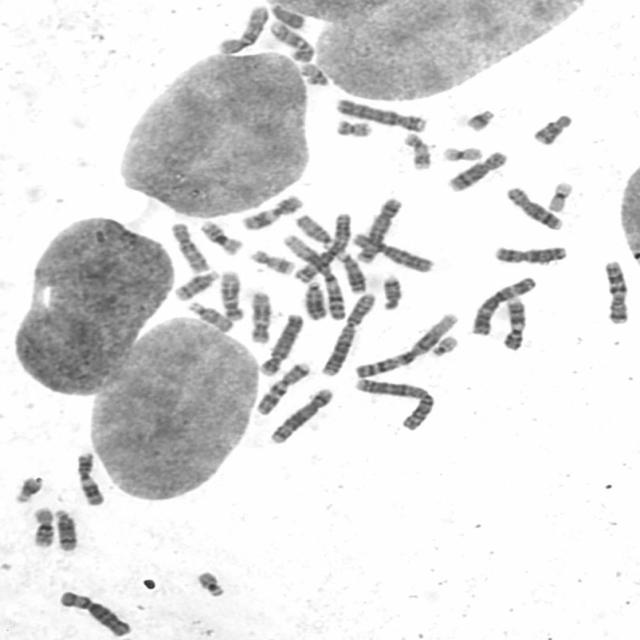A1: (351, 308, 464, 380), (279, 230, 350, 321)
A2: (318, 288, 379, 378), (350, 373, 439, 432)
A3: (290, 208, 355, 283), (468, 272, 539, 336)
B4: (332, 93, 431, 133), (256, 308, 308, 377)
B5: (266, 383, 337, 445), (352, 192, 406, 264)
C10: (215, 1, 272, 55), (166, 217, 214, 274)
C11: (237, 190, 307, 231), (73, 447, 109, 507)
C12: (217, 266, 248, 322), (245, 287, 275, 344)
C6: (55, 586, 135, 638), (348, 228, 438, 274)
C7: (252, 357, 315, 416), (600, 256, 632, 326)
C8: (503, 182, 567, 231), (444, 146, 511, 192)
C9: (267, 16, 317, 64), (499, 294, 530, 351)
D13: (334, 247, 369, 294), (301, 276, 330, 320)
D14: (171, 265, 223, 302), (51, 503, 82, 553)
D15: (184, 296, 238, 332), (291, 210, 335, 245)
E16: (196, 215, 246, 256), (28, 503, 58, 548)
E17: (246, 244, 299, 275), (400, 128, 435, 170)
E18: (530, 108, 576, 146), (378, 270, 406, 311)
F19: (544, 177, 577, 213), (439, 141, 486, 163)
F20: (291, 62, 330, 90), (332, 114, 377, 138)
G21: (10, 471, 46, 504), (462, 104, 499, 132)
G22: (427, 330, 462, 358), (192, 573, 225, 599)
X: (491, 240, 571, 265)
Y: (265, 0, 308, 30)
